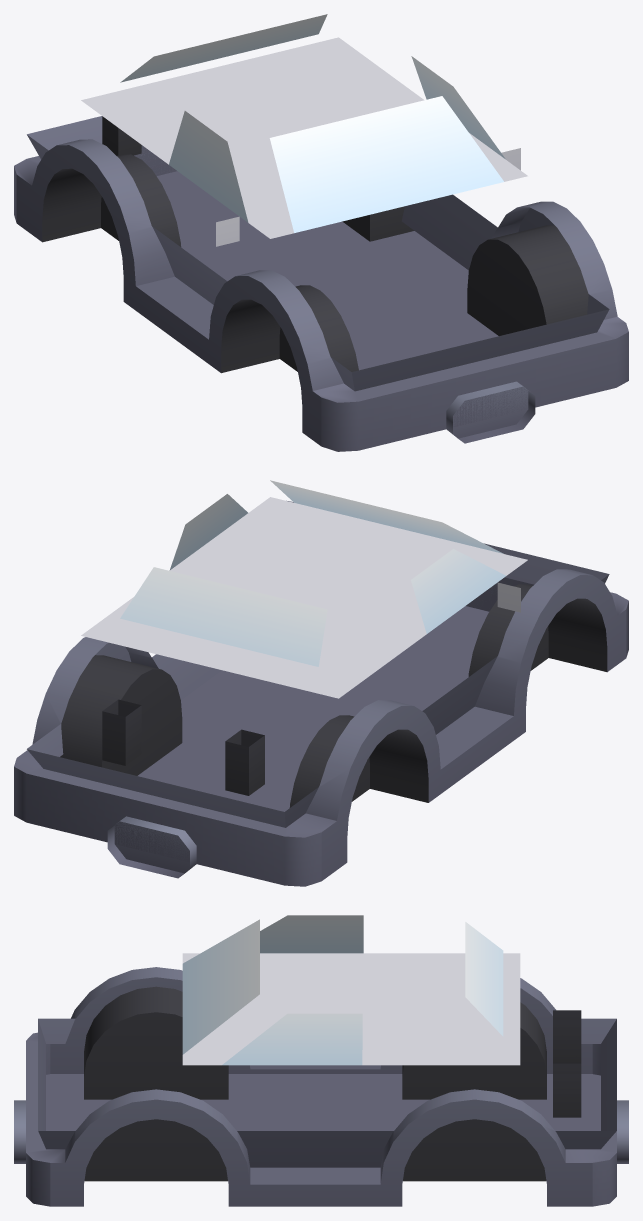
Rendered from sedan-sports-trim.glb.
The picture shows the model from 3 angles, top to bottom: view 1: azimuth 30°, elevation 25°; view 2: azimuth 150°, elevation 25°; view 3: azimuth 270°, elevation 25°; orthographic projection. The views are drawn at different scales.
Visible parts, largest first — view 1: trim; view 2: trim; view 3: trim.
Boxes of the visible parts, x1,y1,x2,y2 form: trim: [14, 14, 628, 451]; trim: [14, 480, 628, 886]; trim: [14, 915, 628, 1206].
Size of the model in its own units: 1.3 by 0.89 by 2.55.
Materials: 1 (1 with a texture image).
